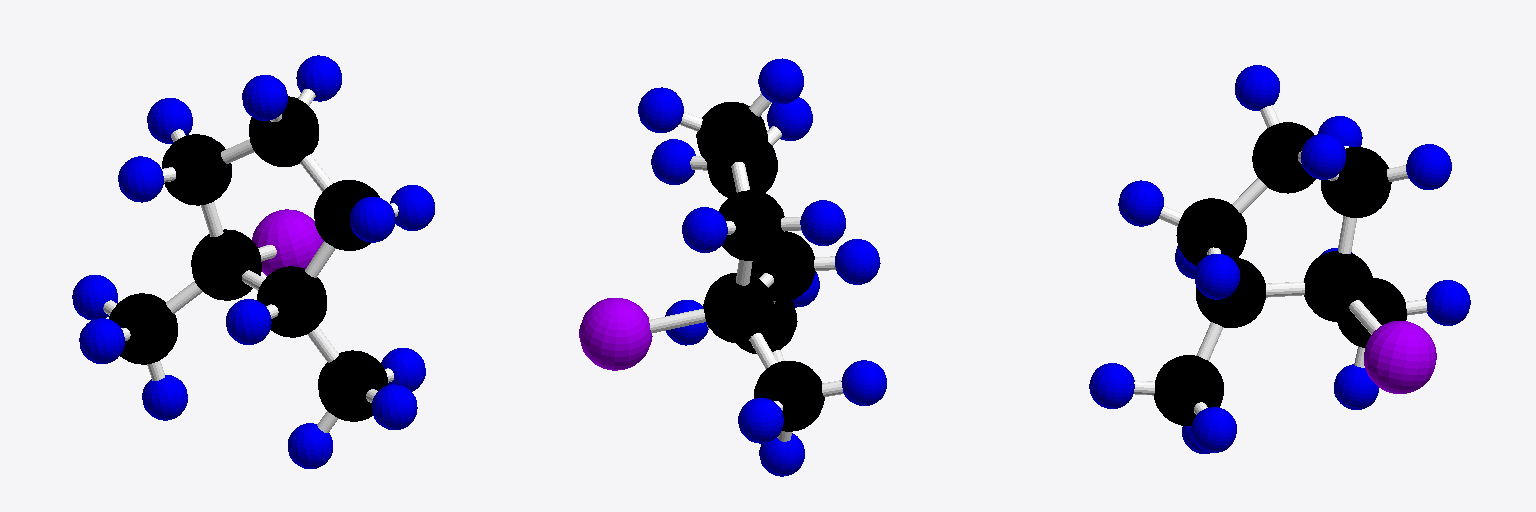
Rendered from trans-1-cloro-1_2-dimetil-ciclo-pentano.obj.
3 views of the same model, side by side, from view 1: azimuth 30°, elevation 25°; view 2: azimuth 150°, elevation 25°; view 3: azimuth 270°, elevation 25° (orthographic).
Visible parts, largest first — view 1: Shape_Sphere.002_Shape_Sphere.003, Shape_Sphere_Shape_Sphere.001, Shape_Sphere.001_Shape_Sphere.002, Shape_Sphere.011_Shape_Sphere.012, Shape_Sphere.016_Shape_Sphere.017, Shape_Sphere.004_Shape_Sphere.005, Shape_Sphere.020_Shape_Sphere.021, Shape_Sphere.003_Shape_Sphere.004, Shape_Sphere.007_Shape_Sphere.008, Shape_Sphere.005_Shape_Sphere.006, Shape_Sphere.012_Shape_Sphere.013, Shape_Sphere.019_Shape_Sphere.020 (+9 smaller); view 2: Shape_Sphere.020_Shape_Sphere.021, Shape_Sphere.004_Shape_Sphere.005, Shape_Sphere_Shape_Sphere.001, Shape_Sphere.002_Shape_Sphere.003, Shape_Sphere.016_Shape_Sphere.017, Shape_Sphere.001_Shape_Sphere.002, Shape_Sphere.006_Shape_Sphere.007, Shape_Sphere.005_Shape_Sphere.006, Shape_Sphere.007_Shape_Sphere.008, Shape_Sphere.018_Shape_Sphere.019, Shape_Sphere.019_Shape_Sphere.020, Shape_Sphere.012_Shape_Sphere.013 (+7 smaller); view 3: Shape_Sphere.020_Shape_Sphere.021, Shape_Sphere_Shape_Sphere.001, Shape_Sphere.011_Shape_Sphere.012, Shape_Sphere.003_Shape_Sphere.004, Shape_Sphere.002_Shape_Sphere.003, Shape_Sphere.004_Shape_Sphere.005, Shape_Sphere.001_Shape_Sphere.002, Shape_Sphere.016_Shape_Sphere.017, Shape_Sphere.014_Shape_Sphere.015, Shape_Sphere.006_Shape_Sphere.007, Shape_Sphere.009_Shape_Sphere.010, Shape_Sphere.008_Shape_Sphere.009 (+6 smaller).
Boxes of the visible parts, x1=… form: Shape_Sphere.002_Shape_Sphere.003: x1=162, y1=134, x2=231, y2=205; Shape_Sphere_Shape_Sphere.001: x1=191, y1=229, x2=261, y2=300; Shape_Sphere.001_Shape_Sphere.002: x1=257, y1=266, x2=326, y2=337; Shape_Sphere.011_Shape_Sphere.012: x1=318, y1=350, x2=387, y2=421; Shape_Sphere.016_Shape_Sphere.017: x1=109, y1=293, x2=177, y2=364; Shape_Sphere.004_Shape_Sphere.005: x1=249, y1=96, x2=318, y2=166; Shape_Sphere.020_Shape_Sphere.021: x1=252, y1=209, x2=323, y2=275; Shape_Sphere.003_Shape_Sphere.004: x1=314, y1=180, x2=379, y2=250; Shape_Sphere.007_Shape_Sphere.008: x1=242, y1=75, x2=287, y2=120; Shape_Sphere.005_Shape_Sphere.006: x1=118, y1=156, x2=163, y2=202; Shape_Sphere.012_Shape_Sphere.013: x1=226, y1=299, x2=271, y2=344; Shape_Sphere.019_Shape_Sphere.020: x1=79, y1=318, x2=124, y2=363; Shape_Sphere.020_Shape_Sphere.021: x1=579, y1=298, x2=652, y2=370; Shape_Sphere.004_Shape_Sphere.005: x1=696, y1=102, x2=767, y2=172; Shape_Sphere_Shape_Sphere.001: x1=703, y1=273, x2=774, y2=343; Shape_Sphere.002_Shape_Sphere.003: x1=719, y1=190, x2=785, y2=260; Shape_Sphere.016_Shape_Sphere.017: x1=754, y1=361, x2=824, y2=431; Shape_Sphere.001_Shape_Sphere.002: x1=751, y1=231, x2=815, y2=301; Shape_Sphere.006_Shape_Sphere.007: x1=682, y1=207, x2=727, y2=252; Shape_Sphere.005_Shape_Sphere.006: x1=800, y1=200, x2=845, y2=245; Shape_Sphere.007_Shape_Sphere.008: x1=758, y1=58, x2=803, y2=103; Shape_Sphere.018_Shape_Sphere.019: x1=738, y1=398, x2=783, y2=443; Shape_Sphere.019_Shape_Sphere.020: x1=841, y1=360, x2=886, y2=405; Shape_Sphere.012_Shape_Sphere.013: x1=835, y1=239, x2=880, y2=284; Shape_Sphere.020_Shape_Sphere.021: x1=1364, y1=321, x2=1436, y2=393; Shape_Sphere_Shape_Sphere.001: x1=1304, y1=251, x2=1373, y2=321; Shape_Sphere.011_Shape_Sphere.012: x1=1154, y1=355, x2=1223, y2=425; Shape_Sphere.003_Shape_Sphere.004: x1=1176, y1=198, x2=1246, y2=265; Shape_Sphere.002_Shape_Sphere.003: x1=1321, y1=147, x2=1391, y2=217; Shape_Sphere.004_Shape_Sphere.005: x1=1252, y1=122, x2=1315, y2=193; Shape_Sphere.001_Shape_Sphere.002: x1=1196, y1=258, x2=1265, y2=327; Shape_Sphere.016_Shape_Sphere.017: x1=1337, y1=278, x2=1406, y2=347; Shape_Sphere.014_Shape_Sphere.015: x1=1191, y1=407, x2=1236, y2=452; Shape_Sphere.006_Shape_Sphere.007: x1=1406, y1=144, x2=1451, y2=189; Shape_Sphere.009_Shape_Sphere.010: x1=1194, y1=254, x2=1239, y2=299; Shape_Sphere.008_Shape_Sphere.009: x1=1301, y1=134, x2=1346, y2=179.
Bounding box in the file's own units: 4.77 × 5.9 × 5.43.